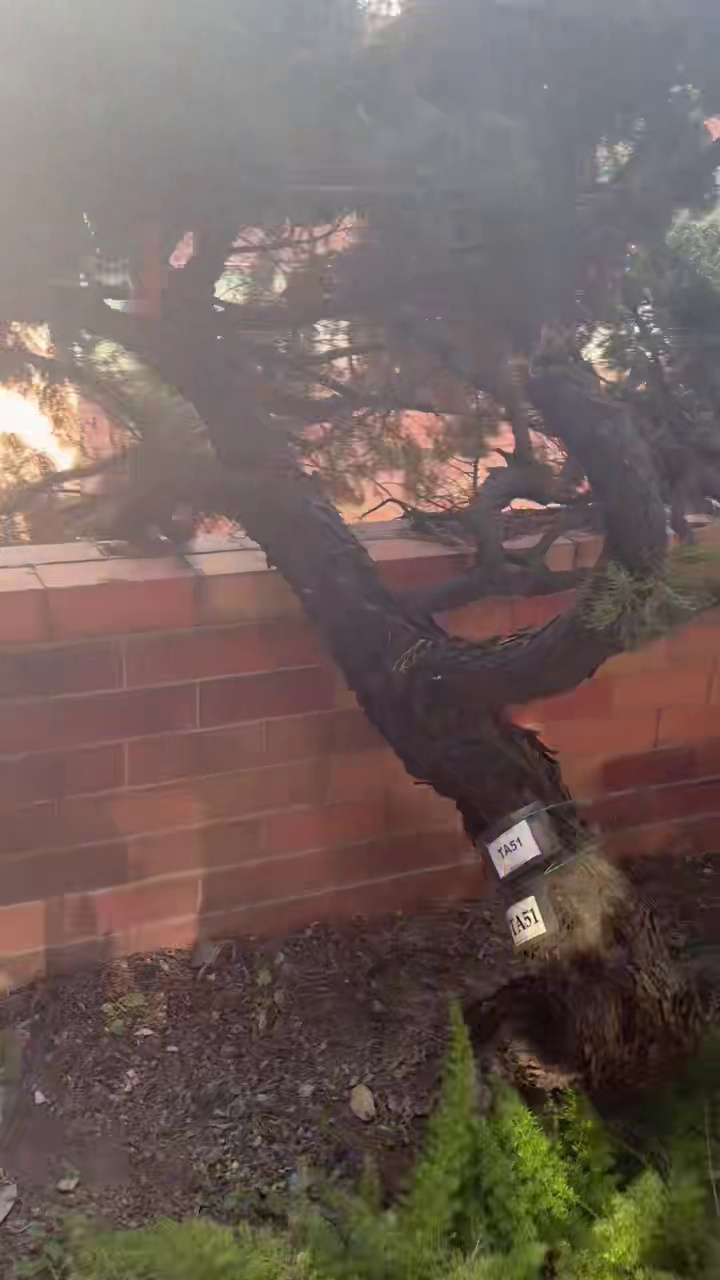Juniperus chinensis: (0, 0, 719, 1089)
